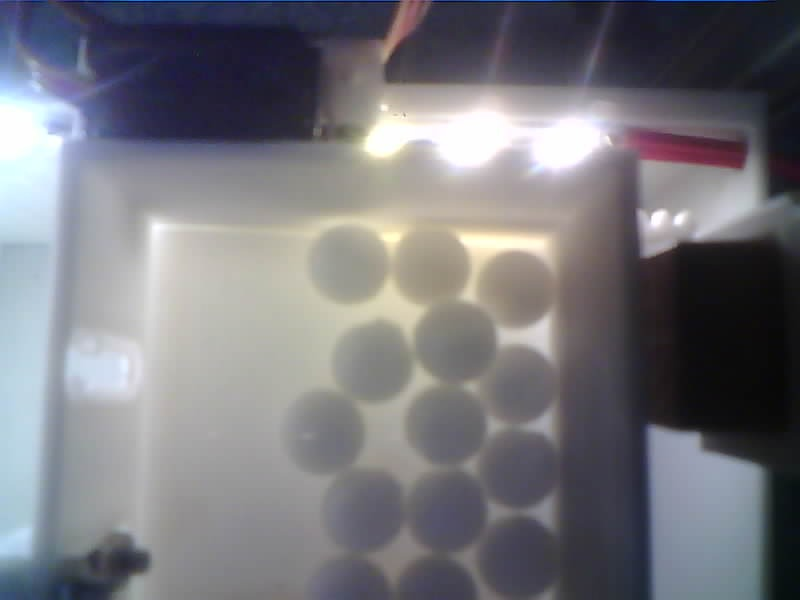Paper: (323, 470, 406, 556), (332, 320, 414, 402), (480, 519, 562, 600), (408, 386, 486, 464), (415, 302, 494, 379), (480, 343, 554, 421), (308, 229, 387, 302), (478, 251, 552, 328), (283, 395, 359, 469), (479, 436, 559, 505), (409, 477, 481, 547), (397, 230, 465, 301), (398, 556, 480, 600), (311, 559, 391, 600)
